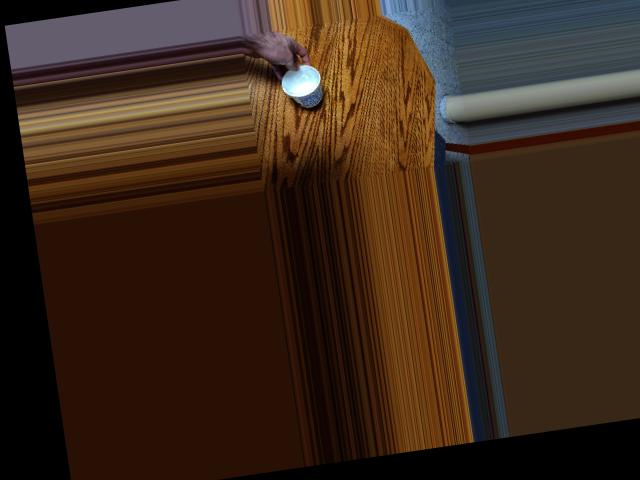cotage: (281, 59, 322, 109)
